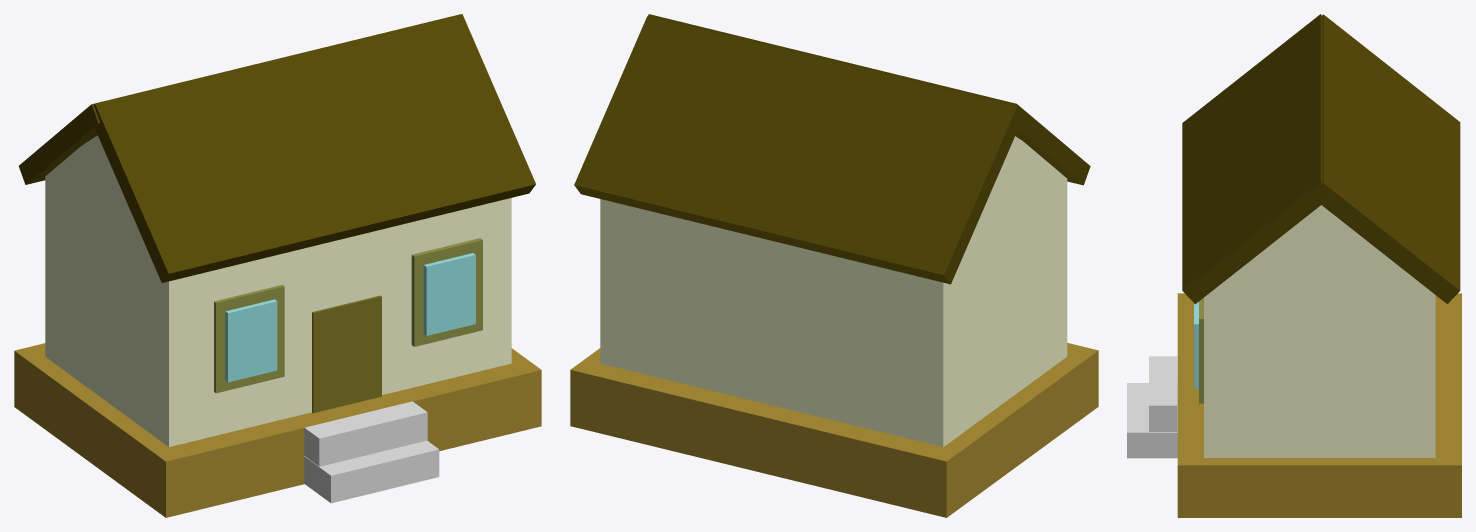
The model's file is home2.glb.
The picture shows the model from 3 angles, left to right: view 1: azimuth 30°, elevation 25°; view 2: azimuth 150°, elevation 25°; view 3: azimuth 270°, elevation 25°; orthographic projection. The views are drawn at different scales.
Visible parts, largest first — view 1: Cube.003, Cube.001, Cube, Cube.011, Cube.006, Cube.005, Cube.008, Cube.010, Cube.002, Cube.009, Cube.007, Cube.004; view 2: Cube.001, Cube.004, Cube, Cube.003, Cube.002; view 3: Cube.001, Cube.003, Cube.004, Cube, Cube.002, Cube.005, Cube.006, Cube.009, Cube.010.
Part boxes in pixels (bbox=[...]): Cube.003: bbox=[94, 14, 535, 282]; Cube.001: bbox=[45, 173, 511, 446]; Cube: bbox=[14, 343, 541, 517]; Cube.011: bbox=[312, 295, 381, 413]; Cube.006: bbox=[304, 401, 427, 466]; Cube.005: bbox=[304, 440, 439, 503]; Cube.008: bbox=[225, 299, 277, 382]; Cube.010: bbox=[423, 253, 475, 335]; Cube.002: bbox=[50, 135, 143, 241]; Cube.009: bbox=[411, 238, 482, 346]; Cube.007: bbox=[214, 285, 284, 393]; Cube.004: bbox=[19, 14, 460, 184]; Cube.001: bbox=[600, 174, 1067, 446]; Cube.004: bbox=[574, 16, 1023, 284]; Cube: bbox=[570, 343, 1098, 517]; Cube.003: bbox=[648, 14, 1090, 185]; Cube.002: bbox=[970, 136, 1061, 240]; Cube.001: bbox=[1204, 282, 1435, 457]; Cube.003: bbox=[1182, 14, 1322, 304]; Cube.004: bbox=[1311, 14, 1460, 303]; Cube: bbox=[1177, 293, 1461, 517]; Cube.002: bbox=[1223, 205, 1419, 282]; Cube.005: bbox=[1127, 383, 1177, 458]; Cube.006: bbox=[1149, 356, 1177, 431]; Cube.009: bbox=[1199, 298, 1203, 403]; Cube.010: bbox=[1194, 302, 1198, 388].
Size of the model in its own units: 7.31 by 6.64 by 6.02.
